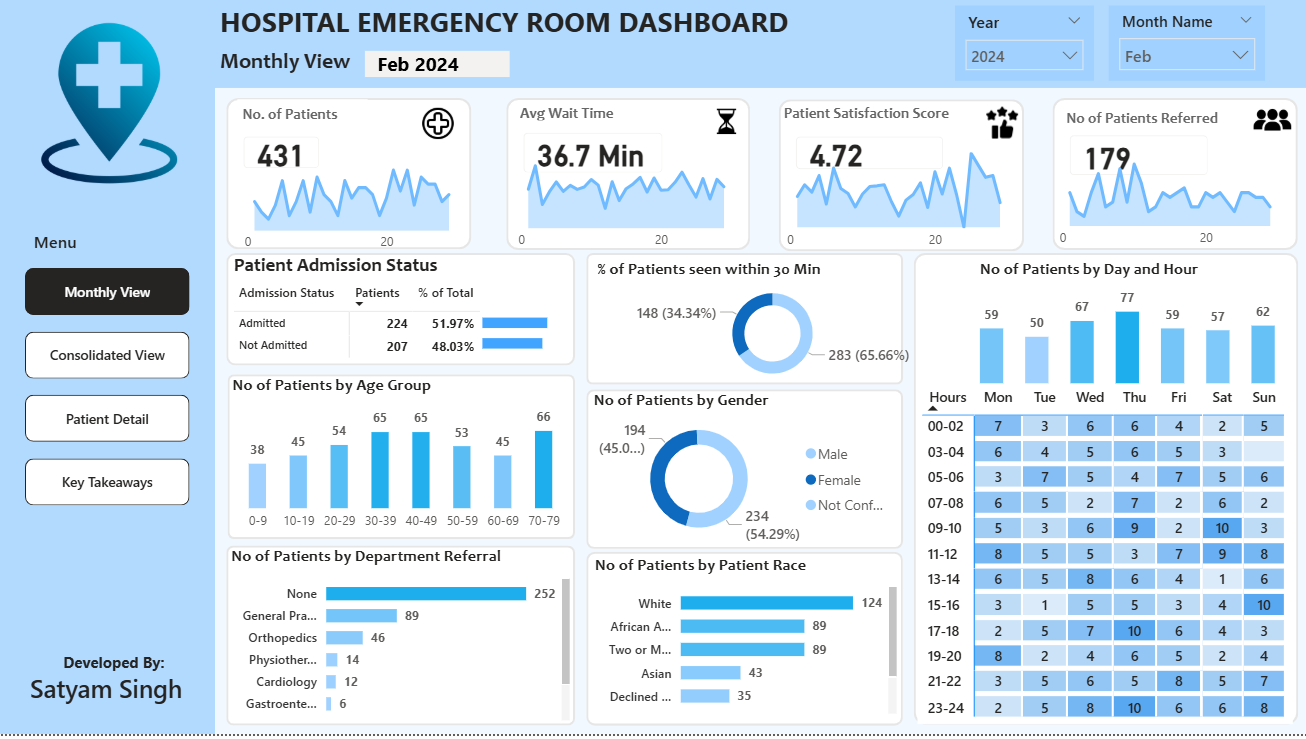

Layout of this report page (visuals, bound fields, positions):
{"tool":"powerbi","page":{"name":"Monthly View","canvas":[1280,720],"ordinal":0},"visuals":[{"type":"shape","box":[221.3,97.8,239.7,148],"z":0},{"type":"shape","box":[0,0,210.3,720],"z":1000},{"type":"shape","box":[210.3,0,1070,88],"z":2000},{"type":"textbox","box":[210.3,0,587,48.9],"z":3000},{"type":"textbox","box":[210.3,44,159,62.4],"z":4000},{"type":"slicer","fields":{"Values":["Date Table.Year"]},"box":[934.2,7.3,135.7,73.4],"z":5000},{"type":"slicer","fields":{"Values":["Date Table.Month Name"]},"box":[1084.7,7.3,152.9,73.4],"z":6000},{"type":"cardVisual","fields":{"Data":["Hospital ER_Data.No of Patients"]},"box":[221.2,118.8,108.8,65],"z":7000},{"type":"textbox","box":[232.3,99,127.2,35.5],"z":8000},{"type":"cardVisual","fields":{"Rows":["Date Table.Month & Year"]},"box":[352.5,27.5,151.2,110],"z":9000},{"type":"shape","box":[495,97.5,238.8,148.8],"z":10000},{"type":"shape","box":[761.2,98.8,240,148.8],"z":11000},{"type":"shape","box":[221.2,250,341.2,110],"z":12000},{"type":"shape","box":[1030,97.5,240,148.8],"z":13000},{"type":"textbox","box":[503.8,97.5,116.2,37.5],"z":14000},{"type":"cardVisual","fields":{"Data":["Hospital ER_Data.Avg Wait Time"]},"box":[495,115,170,73.8],"z":15000},{"type":"textbox","box":[761.2,97.5,203.8,41.2],"z":16000},{"type":"cardVisual","fields":{"Data":["Hospital ER_Data.Satisfaction Score"]},"box":[761.2,118.8,178.8,66.2],"z":17000},{"type":"textbox","box":[1038.8,102.5,201.2,36.2],"z":18000},{"type":"cardVisual","fields":{"Data":["Hospital ER_Data.No of Patients Referred"]},"box":[1029.6,117.4,170,73.4],"z":19000},{"type":"pivotTable","title":"Patient Admission Status","fields":{"Rows":["Hospital ER_Data.Admission Status"],"Values":["Hospital ER_Data.No of Patients1","Hospital ER_Data.No of Patients"]},"box":[224.3,249.5,339,109.6],"z":20000},{"type":"barChart","fields":{"Category":["Hospital ER_Data.Admission Status"],"Y":["Hospital ER_Data.No of Patients"]},"box":[467.5,290,95,70],"z":21000},{"type":"shape","box":[222.5,367.5,340,161.2],"z":22000},{"type":"clusteredColumnChart","fields":{"Category":["Hospital ER_Data.Age Group"],"Y":["Hospital ER_Data.No of Patients"]},"box":[222.5,367.5,340,161.2],"z":23000},{"type":"shape","box":[221.2,535,341.2,176.2],"z":24000},{"type":"clusteredBarChart","fields":{"Category":["Hospital ER_Data.Department Referral"],"Y":["Hospital ER_Data.No of Patients"]},"box":[221.2,535,341.2,176.2],"z":25000},{"type":"shape","box":[573.8,250,310,128.8],"z":26000},{"type":"donutChart","title":"% of Patients seen within 30 Min","fields":{"Category":["Hospital ER_Data.Waittime Status"],"Y":["Hospital ER_Data.No of Patients"]},"box":[580,253.8,352.5,128.8],"z":27000},{"type":"shape","box":[573.8,382.5,310,156.2],"z":28000},{"type":"donutChart","title":"No of Patients by Gender","fields":{"Y":["Hospital ER_Data.No of Patients"],"Category":["Hospital ER_Data.Patient Gender"]},"box":[576.2,382.5,305,156.2],"z":29000},{"type":"shape","box":[573.3,541.8,310,170.1],"z":30000},{"type":"clusteredBarChart","fields":{"Y":["Hospital ER_Data.No of Patients"],"Category":["Hospital ER_Data.Patient Race"]},"box":[577.5,543.8,305,161.2],"z":31000},{"type":"stackedAreaChart","fields":{"Y":["Hospital ER_Data.No of Patients Referred"],"Category":["Date Table.Date.Variation.Date Hierarchy.Day"]},"box":[1025,140,240,113.8],"z":32000},{"type":"stackedAreaChart","fields":{"Y":["Hospital ER_Data.Satisfaction Score"],"Category":["Date Table.Date.Variation.Date Hierarchy.Day"]},"box":[758.8,138.8,242.5,116.2],"z":33000},{"type":"stackedAreaChart","fields":{"Category":["Date Table.Date.Variation.Date Hierarchy.Day"],"Y":["Avg(Hospital ER_Data.Patient Waittime)"]},"box":[495,140,235,115],"z":34000},{"type":"stackedAreaChart","fields":{"Category":["Date Table.Date.Variation.Date Hierarchy.Day"],"Y":["Hospital ER_Data.No of Patients"]},"box":[227.5,143.8,233.8,112.5],"z":35000},{"type":"shape","box":[893.8,250,376.2,461.2],"z":36000},{"type":"pivotTable","fields":{"Rows":["Hospital ER_Data.Waittime Interval"],"Columns":["Date Table.Day Name"],"Values":["Hospital ER_Data.No of Patients"]},"box":[897.5,373.8,367.5,336.2],"z":37000},{"type":"columnChart","title":"No of Patients by Day and Hour","fields":{"Category":["Date Table.Day Name"],"Y":["Hospital ER_Data.No of Patients"]},"box":[953.8,253.8,300,128.8],"z":38000},{"type":"image","box":[698.8,102.5,25,36.2],"z":39000},{"type":"image","box":[411.2,102.5,35,40],"z":40000},{"type":"image","box":[27.7,7.6,157.5,191.5],"z":41000},{"type":"image","box":[965,101.2,31.2,41.2],"z":42000},{"type":"image","box":[1218.8,100,51.2,37.5],"z":43000},{"type":"pageNavigator","box":[23.9,264.6,161.3,235.6],"z":44000},{"type":"textbox","box":[27.7,223,156.3,31.5],"z":45000},{"type":"textbox","box":[23.9,635.1,173.9,70.6],"z":46000}]}

Visuals, with their boxes in screenshot pixels (x1, y1, x2, y2), scaled from the page's 1280x720 canvas onto the 1306x739 screenshot:
shape: bbox=[226, 100, 470, 252]
shape: bbox=[0, 0, 215, 738]
shape: bbox=[215, 0, 1305, 90]
textbox: bbox=[215, 0, 813, 50]
textbox: bbox=[215, 45, 377, 109]
slicer - Date Table.Year: bbox=[953, 7, 1092, 83]
slicer - Date Table.Month Name: bbox=[1107, 7, 1263, 83]
cardVisual - Hospital ER_Data.No of Patients: bbox=[226, 122, 337, 189]
textbox: bbox=[237, 102, 367, 138]
cardVisual - Date Table.Month & Year: bbox=[360, 28, 514, 141]
shape: bbox=[505, 100, 749, 253]
shape: bbox=[777, 101, 1022, 254]
shape: bbox=[226, 257, 574, 369]
shape: bbox=[1051, 100, 1296, 253]
textbox: bbox=[514, 100, 633, 139]
cardVisual - Hospital ER_Data.Avg Wait Time: bbox=[505, 118, 679, 194]
textbox: bbox=[777, 100, 985, 142]
cardVisual - Hospital ER_Data.Satisfaction Score: bbox=[777, 122, 959, 190]
textbox: bbox=[1060, 105, 1265, 142]
cardVisual - Hospital ER_Data.No of Patients Referred: bbox=[1051, 120, 1224, 196]
"Patient Admission Status" pivotTable: bbox=[229, 256, 575, 369]
barChart - Hospital ER_Data.Admission Status x Hospital ER_Data.No of Patients: bbox=[477, 298, 574, 369]
shape: bbox=[227, 377, 574, 543]
clusteredColumnChart - Hospital ER_Data.Age Group x Hospital ER_Data.No of Patients: bbox=[227, 377, 574, 543]
shape: bbox=[226, 549, 574, 730]
clusteredBarChart - Hospital ER_Data.Department Referral x Hospital ER_Data.No of Patients: bbox=[226, 549, 574, 730]
shape: bbox=[585, 257, 902, 389]
"% of Patients seen within 30 Min" donutChart: bbox=[592, 260, 951, 393]
shape: bbox=[585, 393, 902, 553]
"No of Patients by Gender" donutChart: bbox=[588, 393, 899, 553]
shape: bbox=[585, 556, 901, 731]
clusteredBarChart - Hospital ER_Data.No of Patients x Hospital ER_Data.Patient Race: bbox=[589, 558, 900, 724]
stackedAreaChart - Hospital ER_Data.No of Patients Referred x Date Table.Date.Variation.Date Hierarchy.Day: bbox=[1046, 144, 1291, 260]
stackedAreaChart - Hospital ER_Data.Satisfaction Score x Date Table.Date.Variation.Date Hierarchy.Day: bbox=[774, 142, 1022, 262]
stackedAreaChart - Date Table.Date.Variation.Date Hierarchy.Day x Avg(Hospital ER_Data.Patient Waittime): bbox=[505, 144, 745, 262]
stackedAreaChart - Date Table.Date.Variation.Date Hierarchy.Day x Hospital ER_Data.No of Patients: bbox=[232, 148, 471, 263]
shape: bbox=[912, 257, 1296, 730]
pivotTable - Hospital ER_Data.Waittime Interval x Date Table.Day Name: bbox=[916, 384, 1291, 729]
"No of Patients by Day and Hour" columnChart: bbox=[973, 260, 1279, 393]
image: bbox=[713, 105, 739, 142]
image: bbox=[420, 105, 455, 146]
image: bbox=[28, 8, 189, 204]
image: bbox=[985, 104, 1016, 146]
image: bbox=[1244, 103, 1296, 141]
pageNavigator: bbox=[24, 272, 189, 513]
textbox: bbox=[28, 229, 188, 261]
textbox: bbox=[24, 652, 202, 724]
